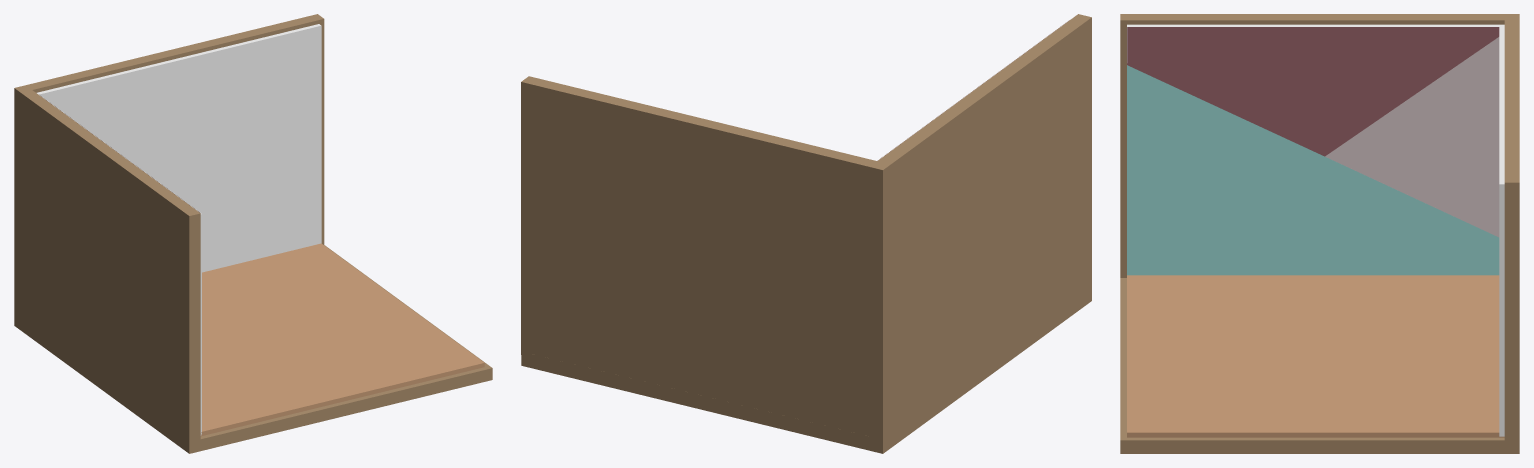
The model's file is Furn4_wall_floor_color2.fbx.
3 renders of one model, left to right at view 1: azimuth 30°, elevation 25°; view 2: azimuth 150°, elevation 25°; view 3: azimuth 270°, elevation 25°, orthographic. The views are drawn at different scales.
Visible parts, largest first — view 1: Куб.336, Куб.335; view 2: Куб.336, Куб.335; view 3: Цилиндр.001, Куб.335, Куб.336.
Boxes of the visible parts, left/top/right/bottom form: Куб.336: left=14, top=14, right=324, bottom=444; Куб.335: left=14, top=243, right=492, bottom=453; Куб.336: left=521, top=14, right=1091, bottom=443; Куб.335: left=521, top=290, right=1091, bottom=453; Цилиндр.001: left=1127, top=27, right=1499, bottom=275; Куб.335: left=1120, top=275, right=1519, bottom=453; Куб.336: left=1120, top=14, right=1519, bottom=443.
Bounding box in the file's own units: 911 × 682 × 910.
